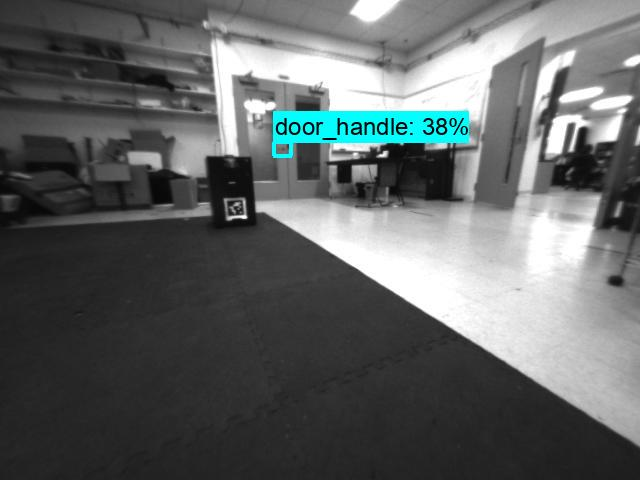door_handle: (274, 144, 289, 156)
drawer: (221, 155, 240, 171)
